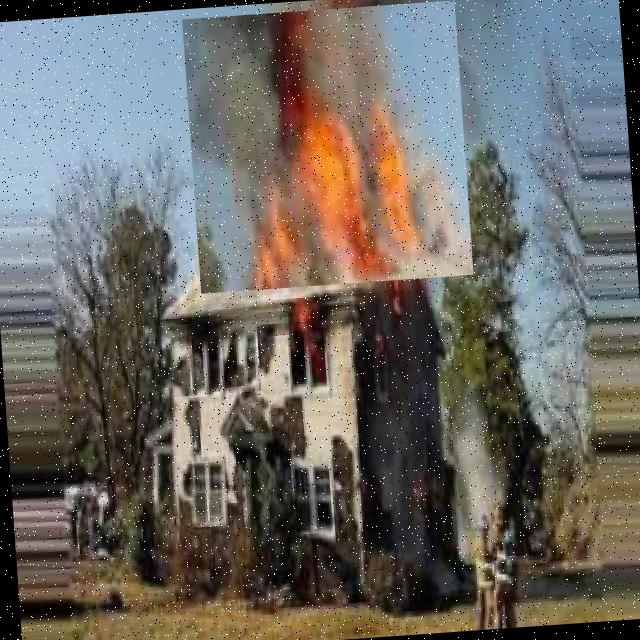fire: (182, 0, 474, 293)
